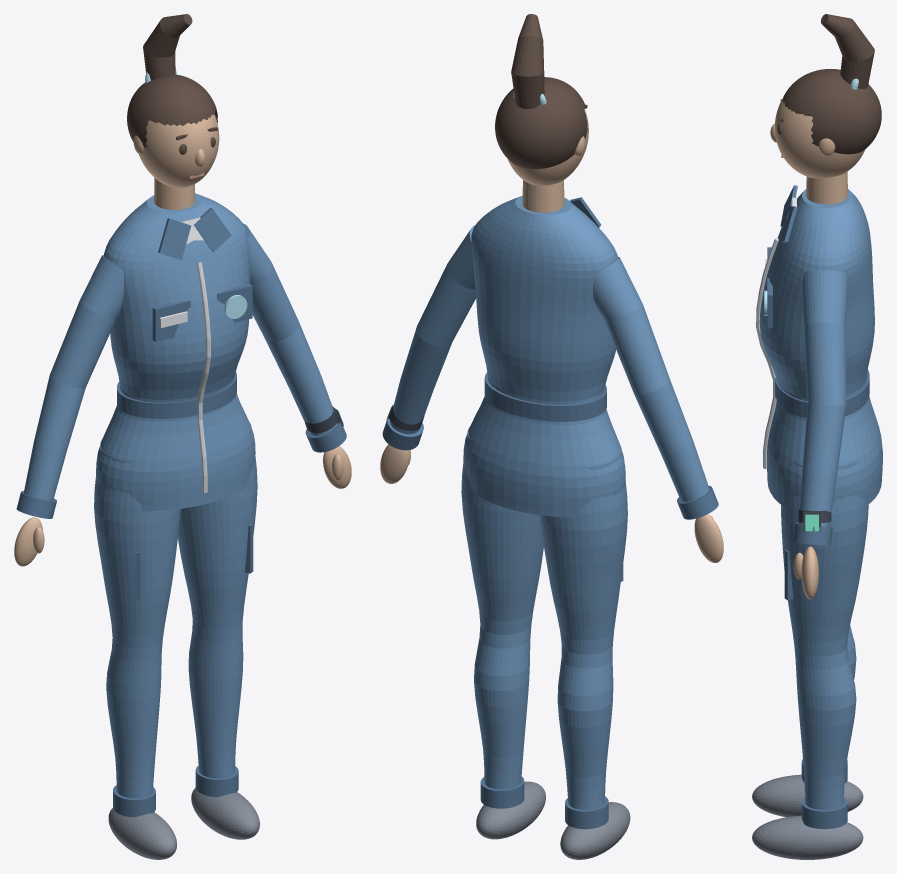
Rendered from crew-female.glb.
3 renders of one model, left to right at view 1: azimuth 30°, elevation 25°; view 2: azimuth 150°, elevation 25°; view 3: azimuth 270°, elevation 25°, orthographic.
Visible parts, largest first — view 1: coverall_torso, coverall_leg_right, coverall_leg_left, coverall_arm_right, coverall_arm_left, head, hair, shoe_left, shoe_right, waist_band, ponytail, zipper (+10 smaller); view 2: coverall_torso, coverall_leg_right, coverall_leg_left, coverall_arm_right, coverall_arm_left, hair, ponytail, waist_band, shoe_left, shoe_right, head, neck (+6 smaller); view 3: coverall_torso, coverall_leg_left, coverall_arm_left, hair, shoe_left, head, ponytail, shoe_right, neck, waist_band, zipper, cuff_ankle_left (+6 smaller).
Boxes of the visible parts, bbox=[...] form: coverall_torso: bbox=[96, 193, 255, 511]; coverall_leg_right: bbox=[94, 440, 180, 798]; coverall_leg_left: bbox=[178, 422, 257, 778]; coverall_arm_right: bbox=[24, 255, 123, 500]; coverall_arm_left: bbox=[243, 223, 337, 435]; head: bbox=[138, 113, 219, 187]; hair: bbox=[127, 74, 217, 147]; shoe_left: bbox=[191, 788, 259, 839]; shoe_right: bbox=[108, 808, 176, 859]; waist_band: bbox=[117, 372, 236, 418]; ponytail: bbox=[143, 14, 192, 80]; zipper: bbox=[196, 262, 210, 493]; coverall_torso: bbox=[463, 195, 625, 517]; coverall_leg_right: bbox=[539, 447, 627, 809]; coverall_leg_left: bbox=[461, 427, 543, 789]; coverall_arm_right: bbox=[593, 257, 709, 501]; coverall_arm_left: bbox=[390, 225, 475, 434]; hair: bbox=[495, 77, 587, 169]; ponytail: bbox=[511, 14, 544, 108]; waist_band: bbox=[484, 372, 606, 421]; shoe_left: bbox=[476, 781, 545, 839]; shoe_right: bbox=[560, 802, 630, 859]; head: bbox=[507, 109, 588, 185]; neck: bbox=[522, 180, 564, 212]; coverall_torso: bbox=[759, 189, 882, 506]; coverall_leg_left: bbox=[781, 460, 868, 809]; coverall_arm_left: bbox=[798, 270, 847, 527]; hair: bbox=[782, 69, 881, 154]; shoe_left: bbox=[752, 815, 863, 859]; head: bbox=[775, 98, 865, 178]; ponytail: bbox=[821, 14, 874, 88]; shoe_right: bbox=[752, 774, 863, 817]; neck: bbox=[806, 171, 847, 204]; waist_band: bbox=[775, 370, 869, 418]; zipper: bbox=[756, 238, 778, 468]; cuff_ankle_left: bbox=[801, 798, 847, 829].
Bounding box in the file's own units: 0.7718 × 1.79 × 0.2567.
